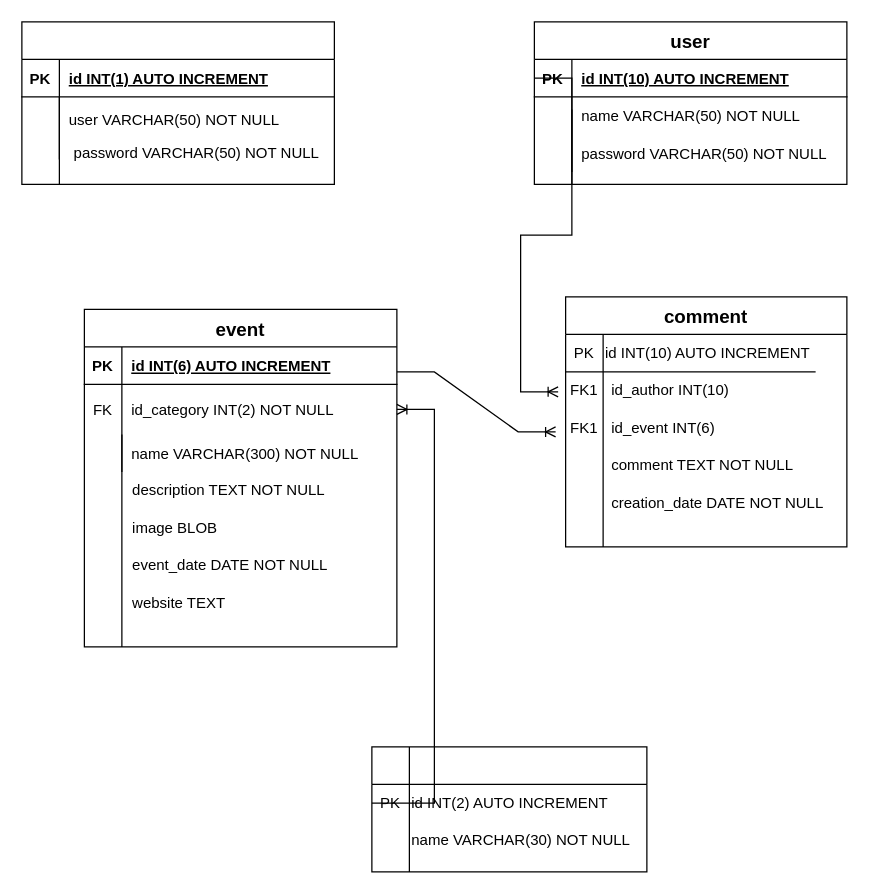
The diagram is 869 pixels wide and 895 high, and some of its shapes have lost their labels. Here are the shapes that lost their labels. From the top down, the box of each, then its label:
(21, 21, 334, 184): admin
(371, 746, 647, 872): category
